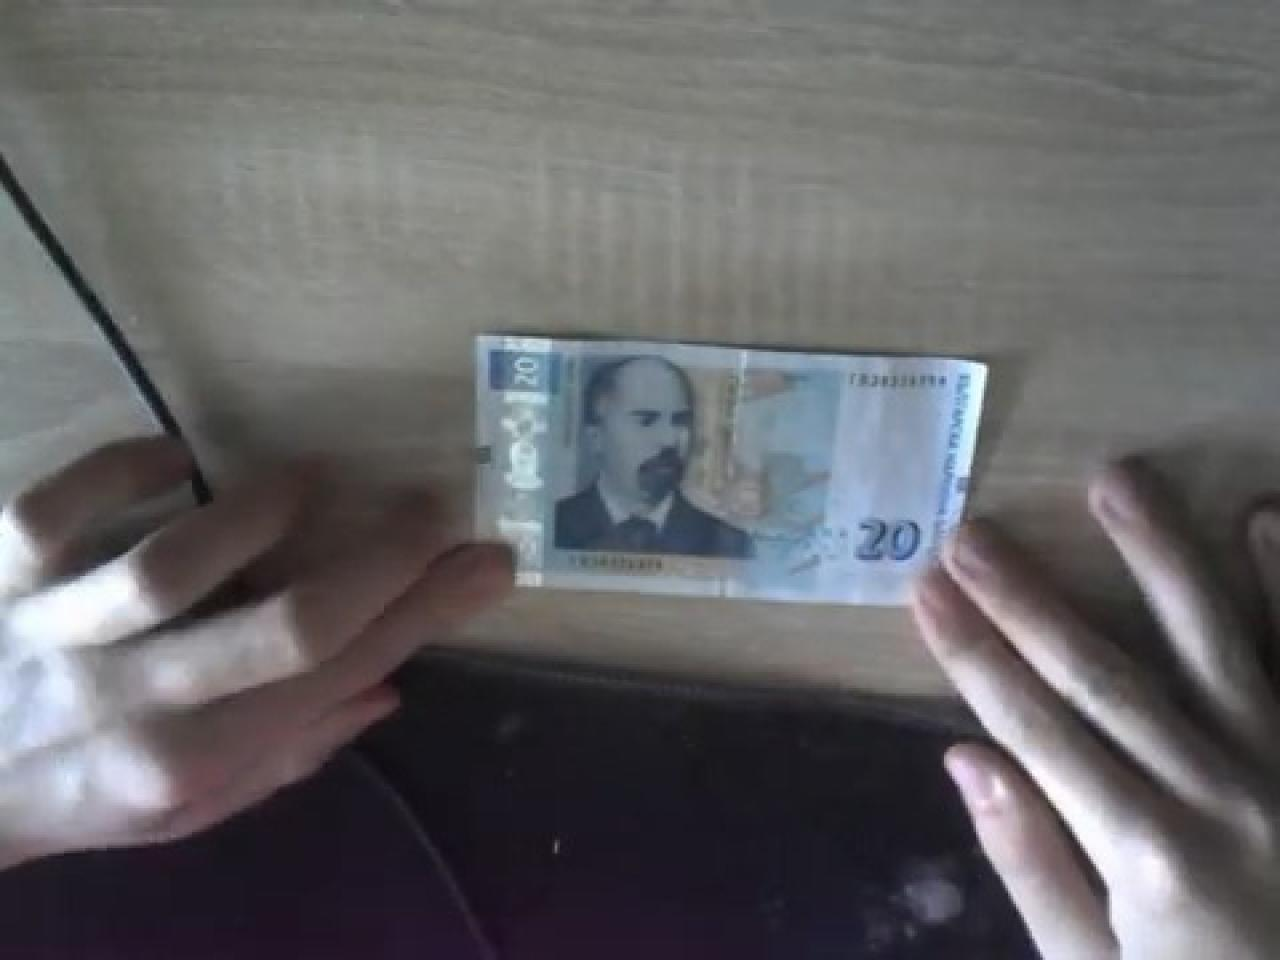20leva: (472, 331, 992, 610)
